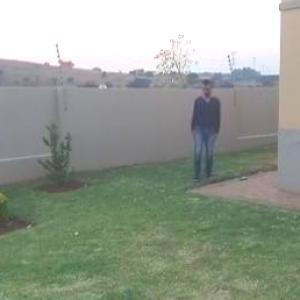follow: (189, 76, 226, 182)
